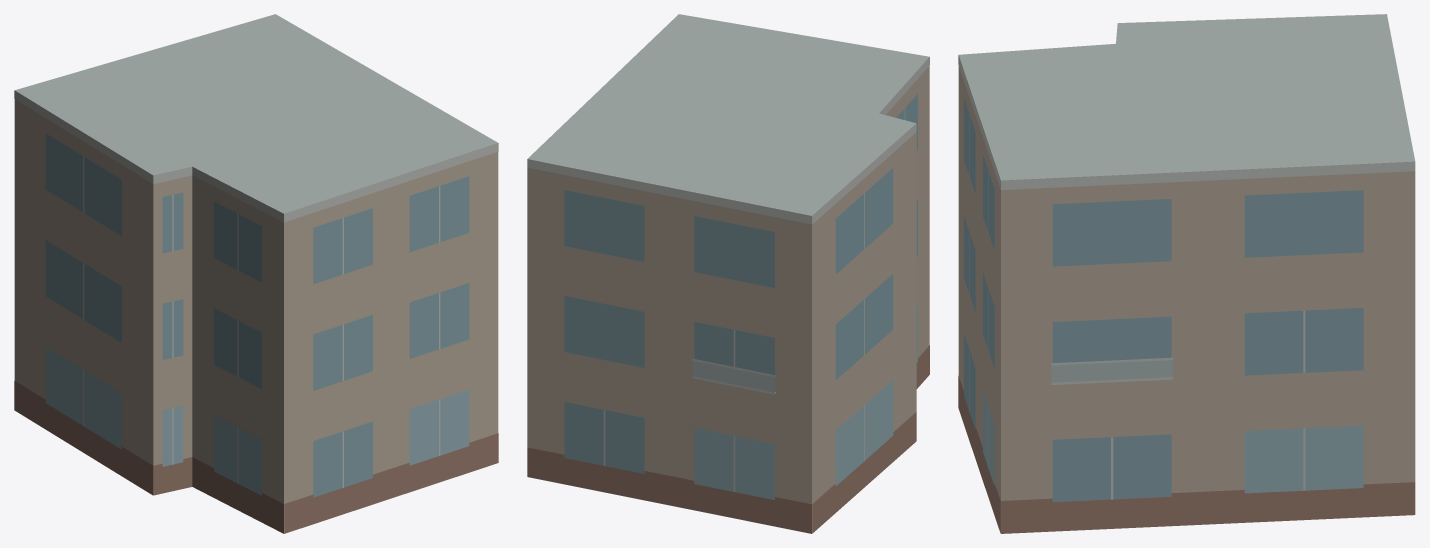
File: survey-upis-32689086.glb
The picture shows the model from 3 angles, left to right: view 1: azimuth 30°, elevation 25°; view 2: azimuth 150°, elevation 25°; view 3: azimuth 270°, elevation 25°; orthographic projection. The views are drawn at different scales.
Parts seen in each view (by area): view 1: survey-upis-32689086.tmp; view 2: survey-upis-32689086.tmp; view 3: survey-upis-32689086.tmp.
Part boxes in pixels (x1,y1,x2,y2): survey-upis-32689086.tmp: (14,14,498,533); survey-upis-32689086.tmp: (527,14,929,533); survey-upis-32689086.tmp: (958,14,1415,533).
Bounding box in the file's own units: 9.1 × 9 × 10.56.
